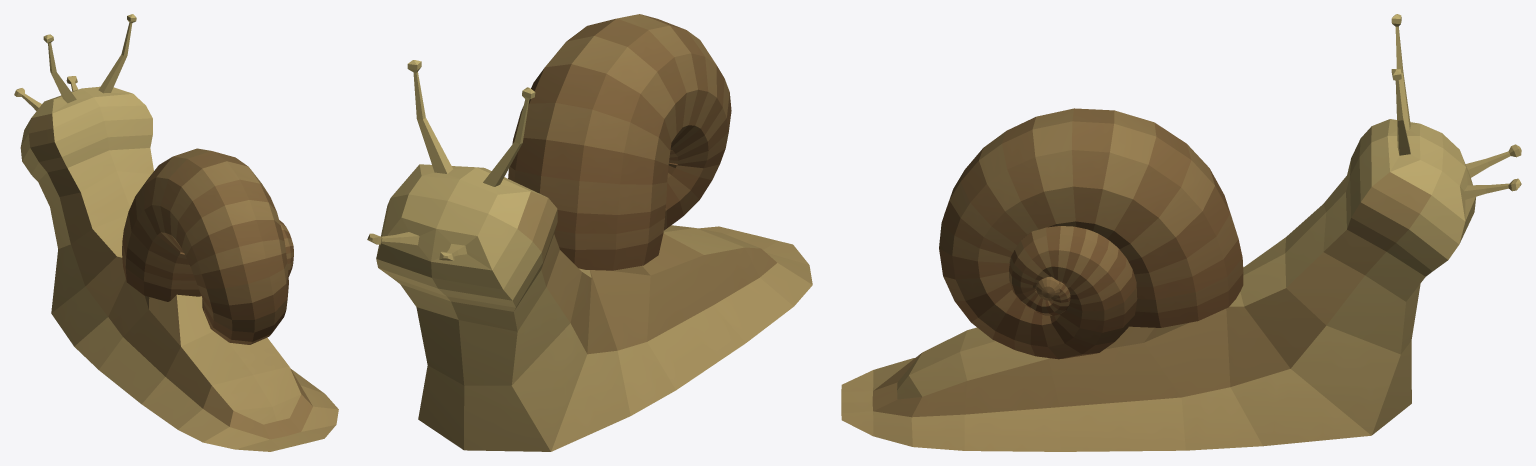
Rendered from SM_Snail.fbx.
3 renders of one model, left to right at view 1: azimuth 30°, elevation 25°; view 2: azimuth 150°, elevation 25°; view 3: azimuth 270°, elevation 25°, orthographic. The views are drawn at different scales.
Visible parts, largest first — view 1: SM_Snail; view 2: SM_Snail; view 3: SM_Snail.
Part boxes in pixels (x1,y1,x2,y2): SM_Snail: [14, 14, 338, 451]; SM_Snail: [367, 14, 812, 451]; SM_Snail: [841, 14, 1521, 451].
Size of the model in its own units: 127 by 220 by 375.
